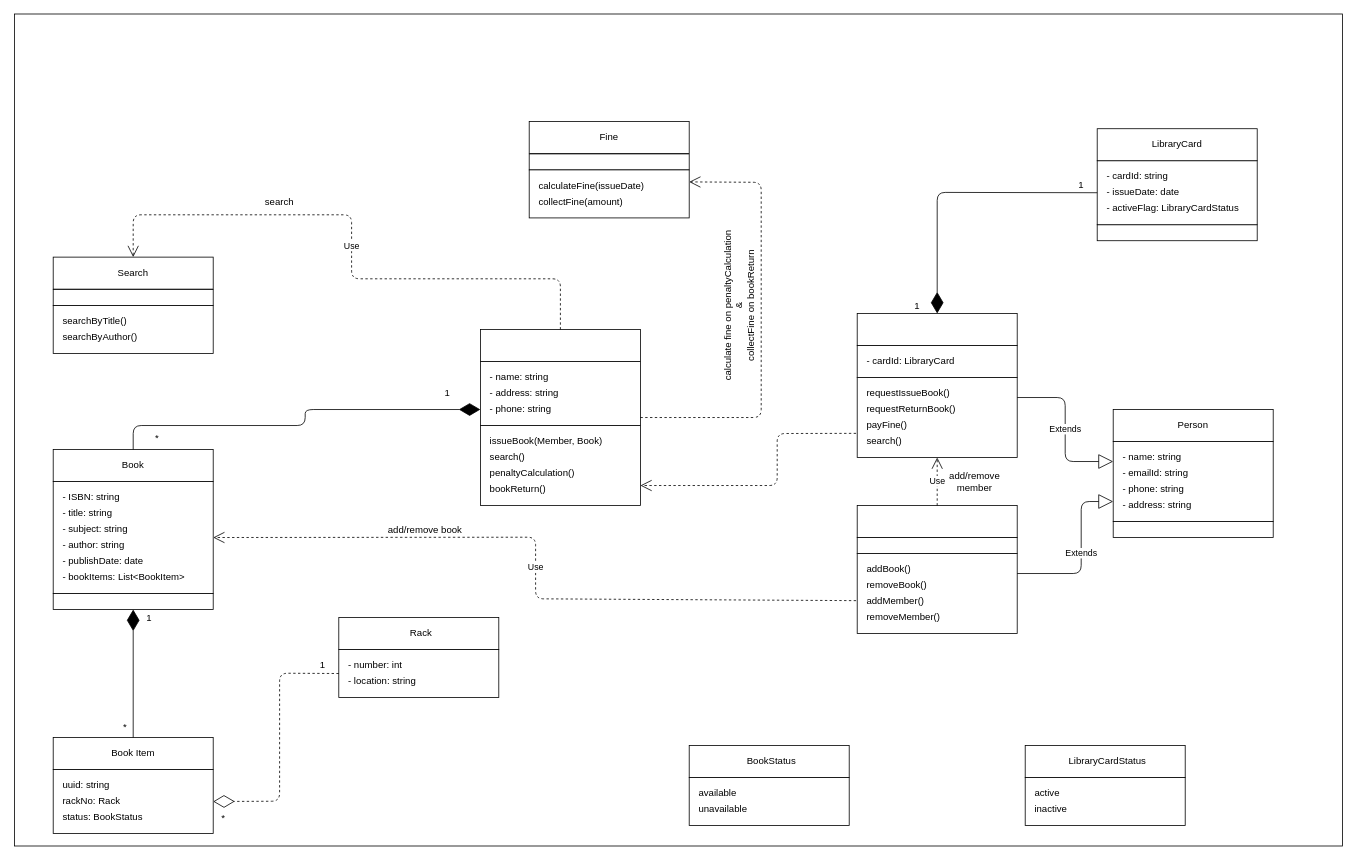
Some shapes in this 1356 by 860 pixel diagram are drawn without their labels. The shapes that lost their labels are listed below. From the top down, each one's centre as x and y in pixels, then its label:
At [560,345]: "Library".
At [936,329]: "Member".
At [936,521]: "Admin".
